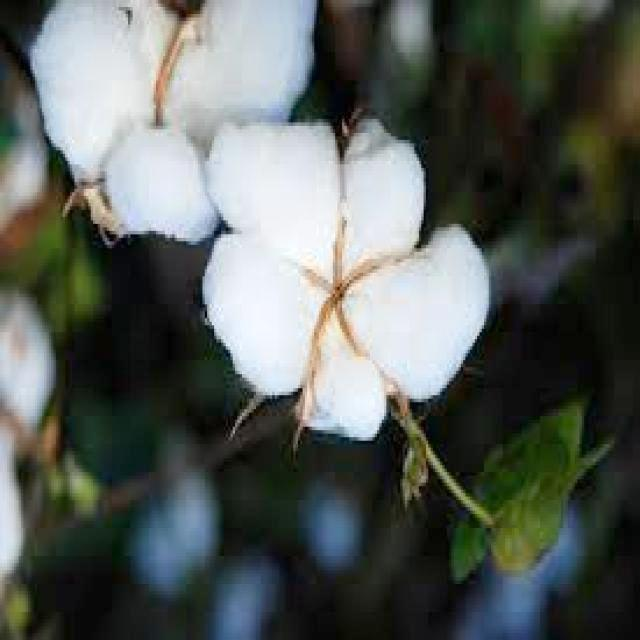Matured Cotton Boll: (202, 124, 492, 448), (28, 0, 318, 250)
